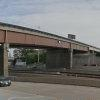Bridge: (3, 14, 94, 67)
